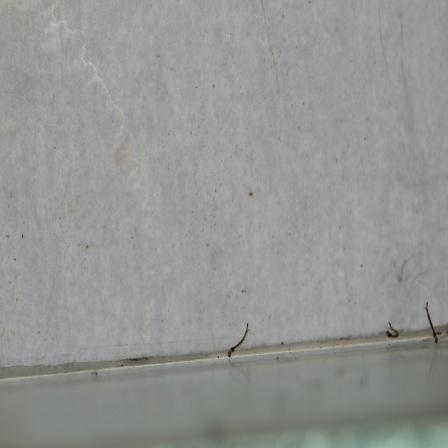Jentik-Nyamuk: (225, 320, 253, 358), (422, 299, 442, 345), (381, 317, 402, 344)
